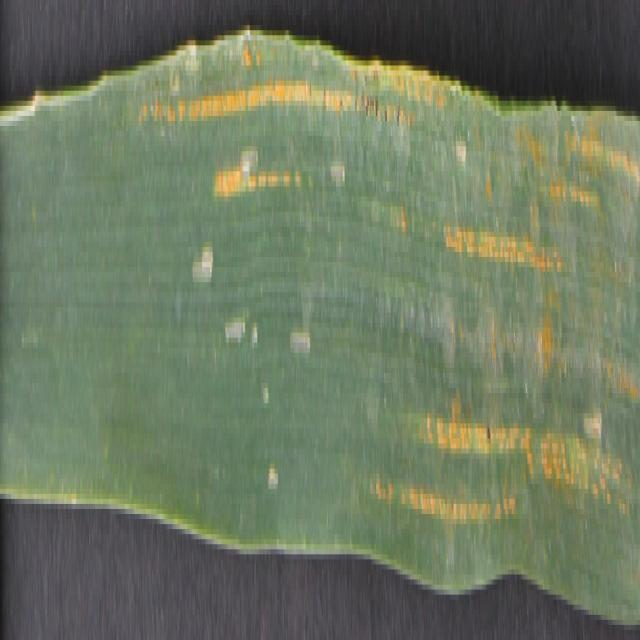leaf rust: (374, 121, 637, 544), (138, 35, 371, 227)
